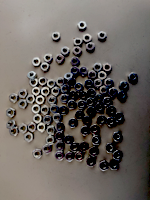nut: (99, 161, 109, 172), (110, 160, 120, 171), (106, 143, 116, 154), (113, 132, 123, 143), (33, 149, 43, 160), (27, 122, 37, 133), (25, 94, 35, 105), (106, 116, 116, 127), (115, 113, 125, 123), (118, 91, 128, 101), (119, 81, 129, 91), (89, 147, 99, 157), (64, 152, 74, 162), (75, 152, 85, 162), (64, 136, 74, 146), (24, 133, 34, 143), (18, 124, 28, 134), (31, 104, 41, 114), (6, 108, 16, 118), (68, 118, 78, 128), (55, 122, 65, 132), (55, 152, 65, 162), (46, 136, 56, 146), (90, 125, 100, 135), (70, 57, 80, 67), (78, 21, 88, 31), (6, 120, 16, 130), (107, 106, 117, 116), (87, 157, 96, 168), (9, 93, 18, 104), (50, 104, 59, 115), (59, 105, 68, 116), (43, 144, 52, 155), (98, 115, 107, 126), (113, 151, 122, 161), (129, 73, 138, 83), (55, 55, 65, 64), (33, 114, 42, 124), (37, 123, 46, 133), (41, 87, 50, 97), (60, 94, 69, 104), (75, 110, 84, 120), (81, 126, 90, 136), (92, 136, 101, 146), (109, 88, 118, 98), (95, 103, 104, 113), (85, 79, 94, 89), (75, 83, 84, 93), (79, 67, 88, 77), (100, 86, 109, 96), (78, 100, 87, 110), (68, 100, 77, 110), (69, 91, 78, 101), (52, 87, 61, 97), (38, 77, 48, 86), (27, 71, 37, 80), (40, 63, 50, 72), (9, 127, 18, 137), (93, 63, 103, 72), (80, 142, 89, 152), (47, 79, 56, 89), (55, 142, 65, 151), (87, 89, 97, 98), (44, 115, 53, 125), (18, 89, 27, 99), (95, 103, 105, 112), (48, 96, 57, 106), (53, 113, 62, 123), (94, 94, 104, 103), (32, 57, 41, 66), (29, 78, 38, 87), (44, 54, 53, 63), (52, 32, 61, 41), (61, 47, 70, 56), (86, 42, 95, 51), (103, 63, 112, 72), (56, 78, 65, 87), (105, 79, 114, 88), (36, 96, 45, 105), (94, 79, 103, 88), (98, 71, 107, 80), (87, 107, 96, 116), (65, 73, 74, 82), (87, 98, 96, 107), (46, 126, 55, 135), (41, 106, 50, 115), (99, 31, 107, 41), (103, 98, 113, 106), (71, 67, 80, 75), (19, 100, 27, 109), (73, 47, 82, 55), (74, 38, 83, 46), (83, 117, 92, 125), (79, 91, 87, 100), (56, 133, 65, 141), (62, 85, 70, 94), (33, 87, 41, 96), (84, 34, 92, 42), (89, 71, 97, 79), (71, 144, 78, 151)
